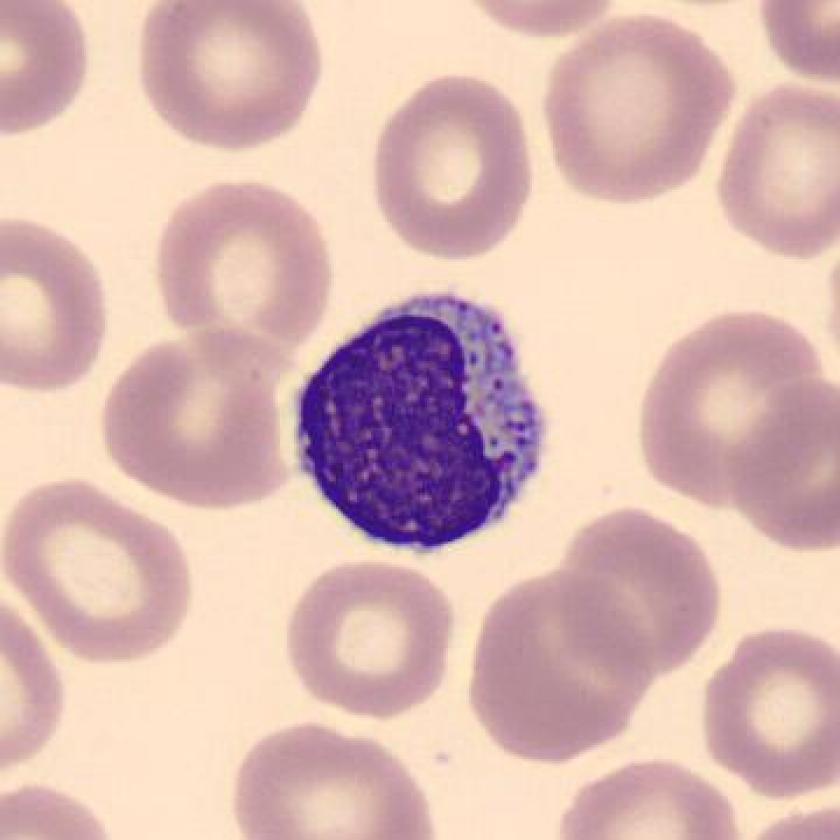lymphocyte: (279, 281, 573, 568)
